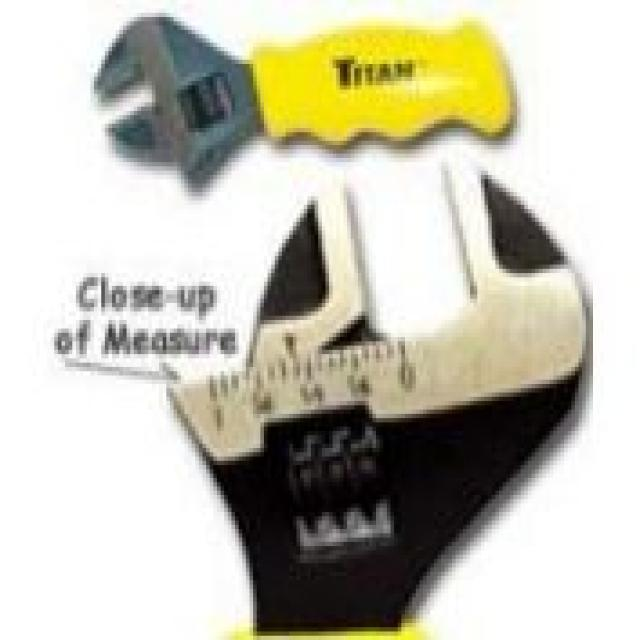wrench: (153, 148, 603, 640), (86, 9, 525, 188)
